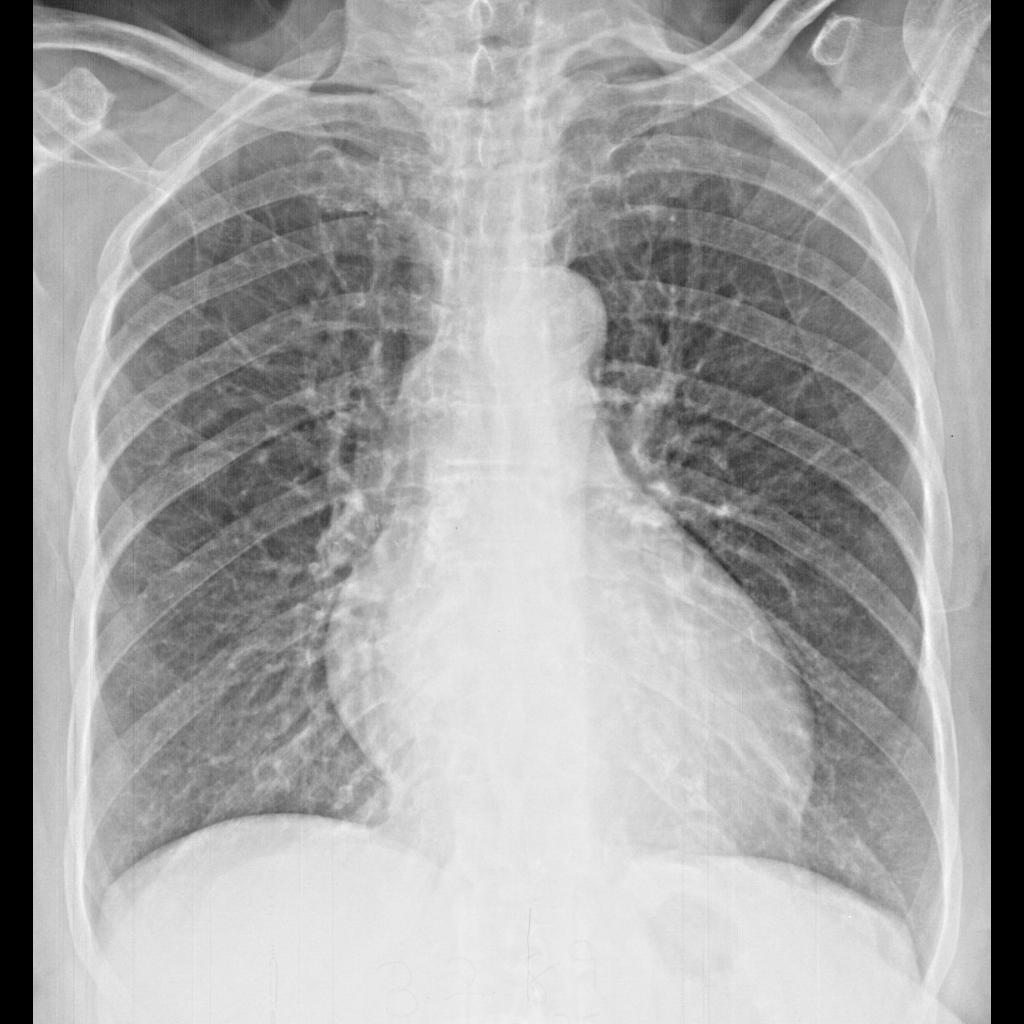Nodule: (175, 445, 225, 495)
